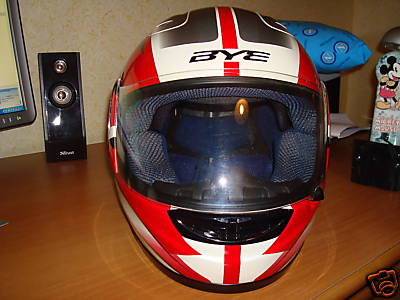helmet: (98, 25, 335, 279)
